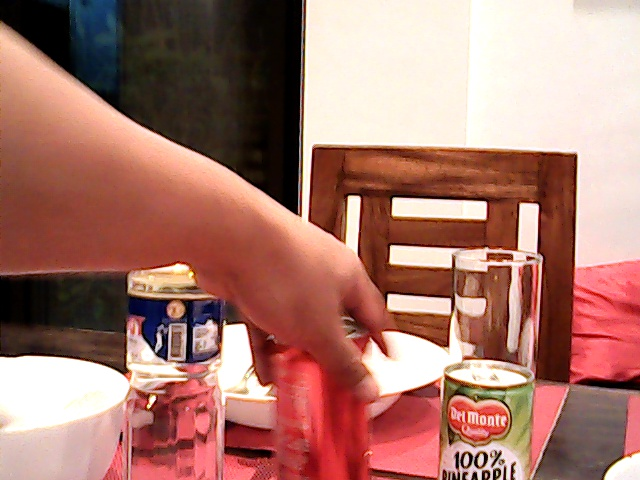Cola: (262, 322, 376, 480)
Pine Juice: (438, 358, 534, 480)
Summit Water: (123, 260, 223, 478)
